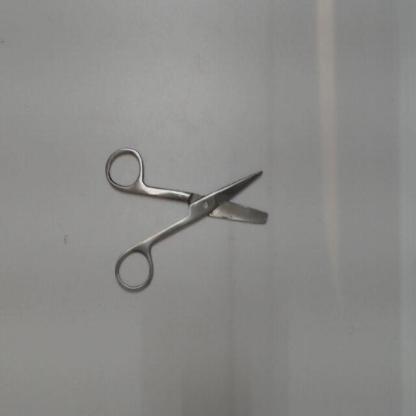Dressing Scissors: (97, 138, 278, 302)
